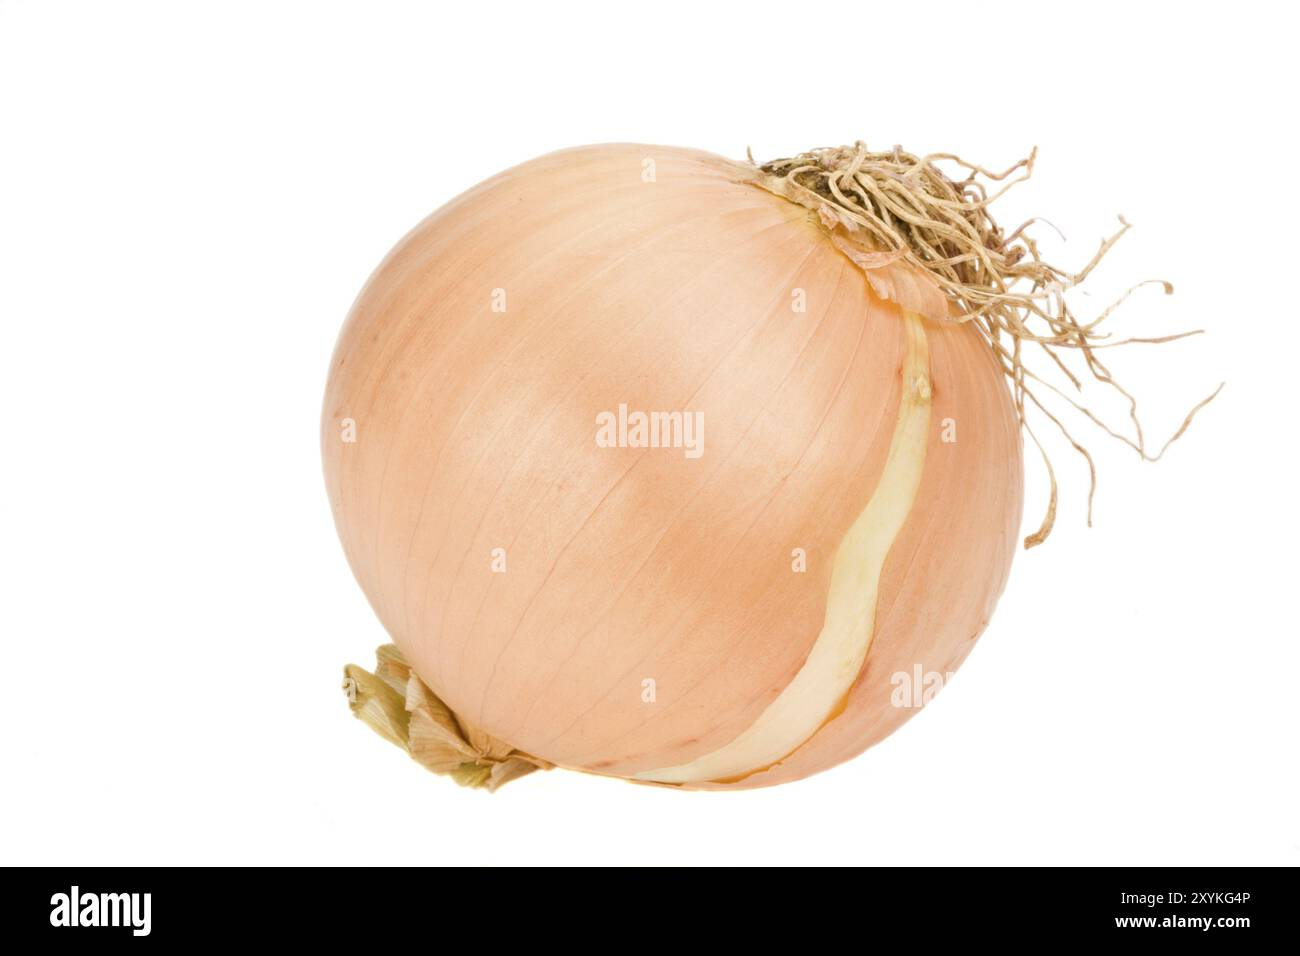onion: (185, 82, 1124, 813)
